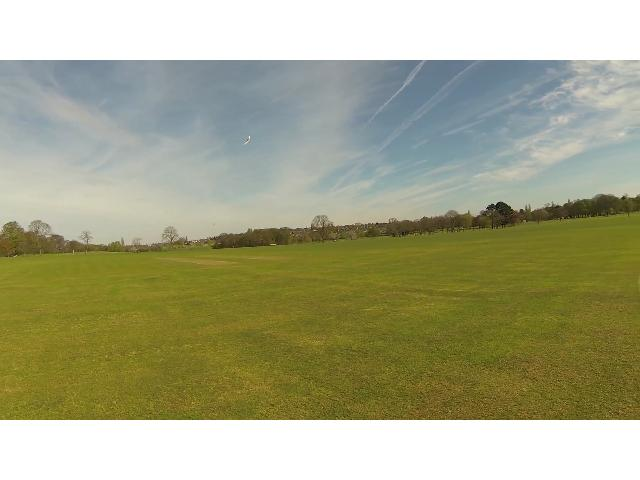Anti-Drone: (238, 134, 260, 151)
